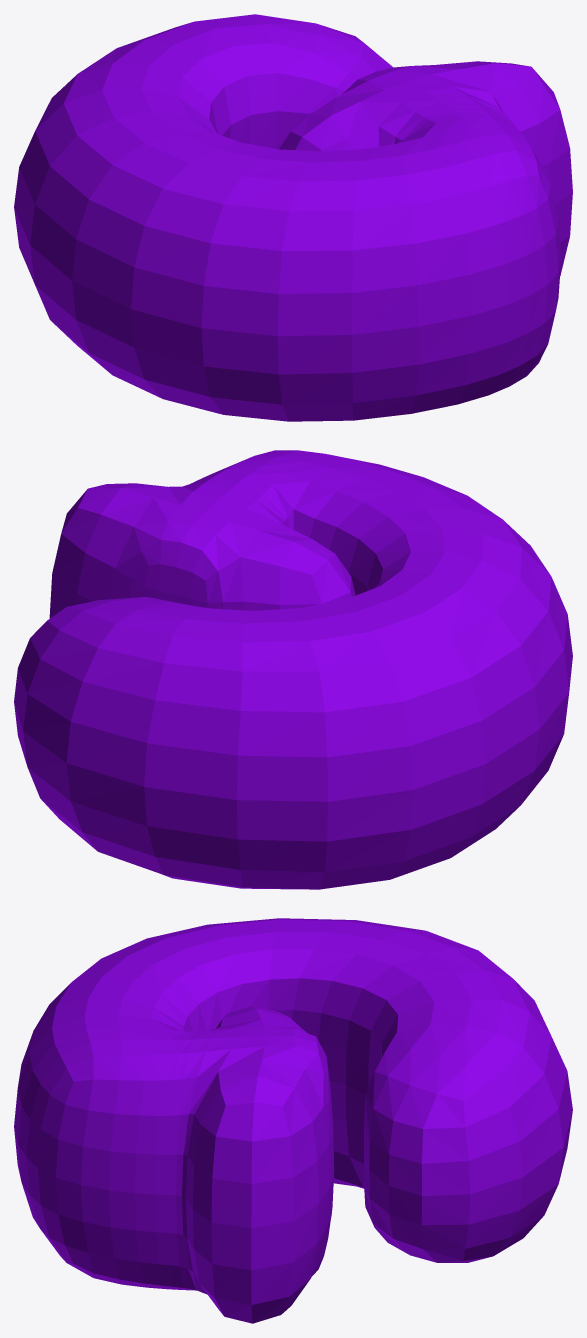
The picture shows the model from 3 angles, top to bottom: view 1: azimuth 30°, elevation 25°; view 2: azimuth 150°, elevation 25°; view 3: azimuth 270°, elevation 25°; orthographic projection. The views are drawn at different scales.
Bounding box in the file's own units: 0.937 × 0.468 × 0.9735.
